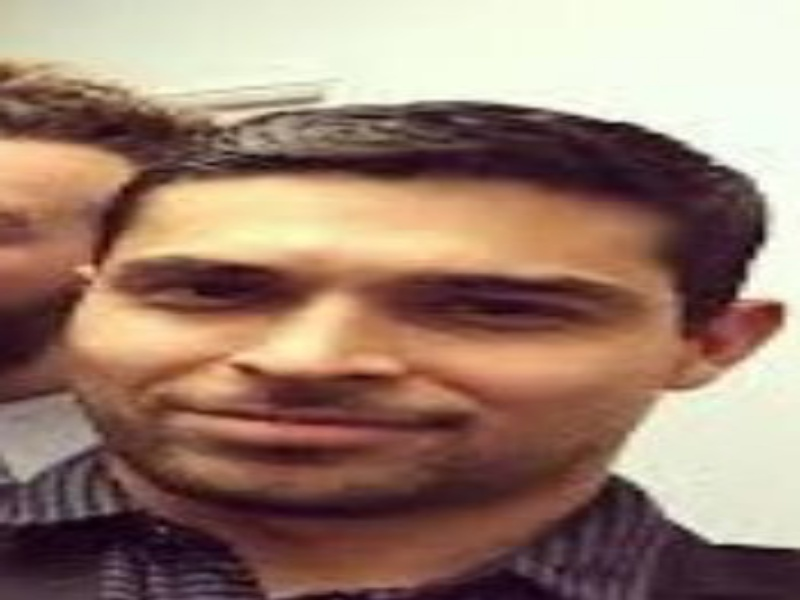TsisyArotava: (78, 89, 786, 532)
